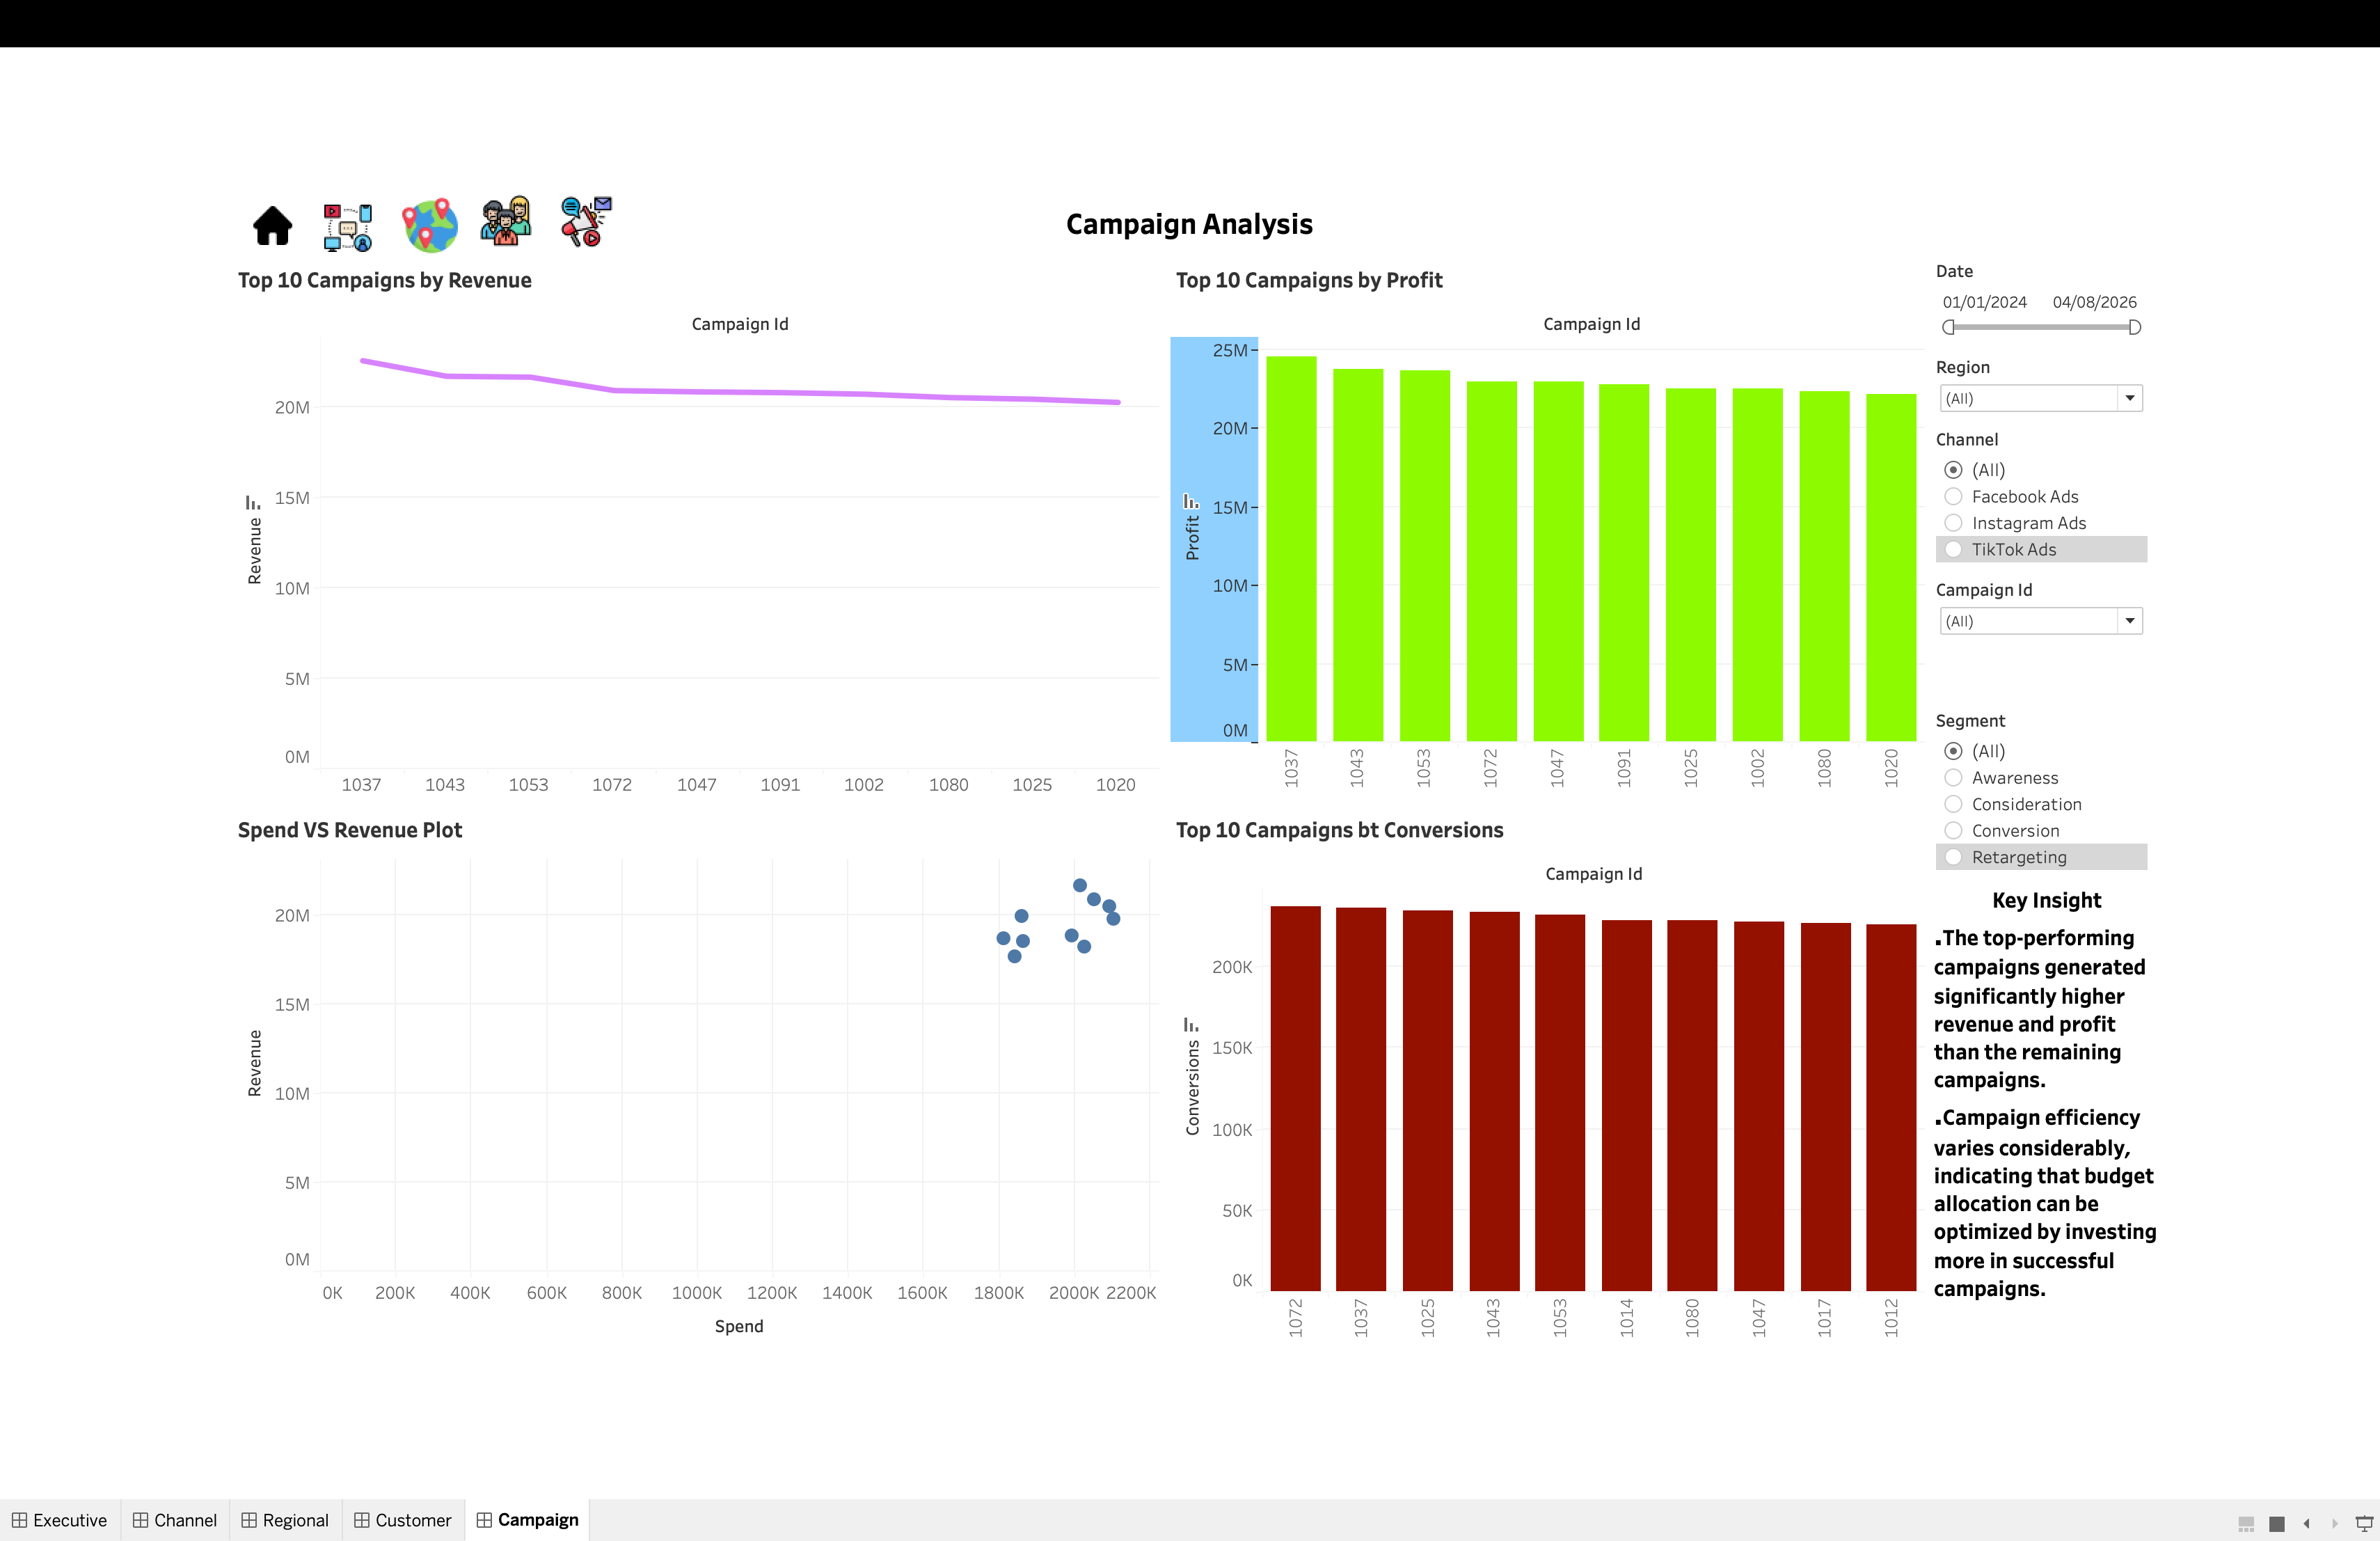

This screenshot's page, from the dashboard's own definition file:
{"tool":"tableau","page":{"name":"Campaign","canvas":[1400,850],"ordinal":0},"visuals":[{"type":"text","box":[8,8,1384,44]},{"type":"dashboard-object","box":[182,10,54,37]},{"type":"dashboard-object","box":[134,11,40,42]},{"type":"dashboard-object","box":[248,11,37,37]},{"type":"dashboard-object","box":[76,17,38,34]},{"type":"dashboard-object","box":[26,18,30,28]},{"type":"worksheet","title":"Sheet 29","mark":"Line","rows":["revenue"],"cols":["campaign_id"],"box":[8,52,674,395]},{"type":"worksheet","title":"Sheet 30","mark":"Automatic","rows":["Profit"],"cols":["campaign_id"],"box":[682,52,550,395]},{"type":"filter","title":"Sheet 29","param":"[federated.07482ca1xi3uup1bdd56w1jny0fc].[none:date:qk]","box":[1232,52,160,69]},{"type":"filter","title":"Sheet 29","param":"[federated.07482ca1xi3uup1bdd56w1jny0fc].[none:region:nk]","box":[1232,121,160,52]},{"type":"filter","title":"Sheet 29","param":"[federated.07482ca1xi3uup1bdd56w1jny0fc].[none:channel:nk]","box":[1232,173,160,108]},{"type":"filter","title":"Sheet 29","param":"[federated.07482ca1xi3uup1bdd56w1jny0fc].[none:campaign_id:ok]","box":[1232,281,160,94]},{"type":"filter","title":"Sheet 29","param":"[federated.07482ca1xi3uup1bdd56w1jny0fc].[none:segment:nk]","box":[1232,375,160,127]},{"type":"worksheet","title":"Sheet 31","mark":"Circle","rows":["revenue"],"cols":["spend"],"box":[8,447,674,395]},{"type":"worksheet","title":"Sheet 32","mark":"Automatic","rows":["conversions"],"cols":["campaign_id"],"box":[682,447,550,395]},{"type":"text","box":[1232,472,168,377]}]}

Visuals, with their boxes on the page's 1400x850 design canvas (x1, y1, x2, y2). These are canvas units, not pixel positions in the 2380x1541 screenshot, which may show the page scaled, cropped or inside an application window:
text: x1=8, y1=8, x2=1392, y2=52
dashboard-object: x1=182, y1=10, x2=236, y2=47
dashboard-object: x1=134, y1=11, x2=174, y2=53
dashboard-object: x1=248, y1=11, x2=285, y2=48
dashboard-object: x1=76, y1=17, x2=114, y2=51
dashboard-object: x1=26, y1=18, x2=56, y2=46
"Sheet 29" worksheet (Line marks): x1=8, y1=52, x2=682, y2=447
"Sheet 30" worksheet: x1=682, y1=52, x2=1232, y2=447
"Sheet 29" filter: x1=1232, y1=52, x2=1392, y2=121
"Sheet 29" filter: x1=1232, y1=121, x2=1392, y2=173
"Sheet 29" filter: x1=1232, y1=173, x2=1392, y2=281
"Sheet 29" filter: x1=1232, y1=281, x2=1392, y2=375
"Sheet 29" filter: x1=1232, y1=375, x2=1392, y2=502
"Sheet 31" worksheet (Circle marks): x1=8, y1=447, x2=682, y2=842
"Sheet 32" worksheet: x1=682, y1=447, x2=1232, y2=842
text: x1=1232, y1=472, x2=1400, y2=849
